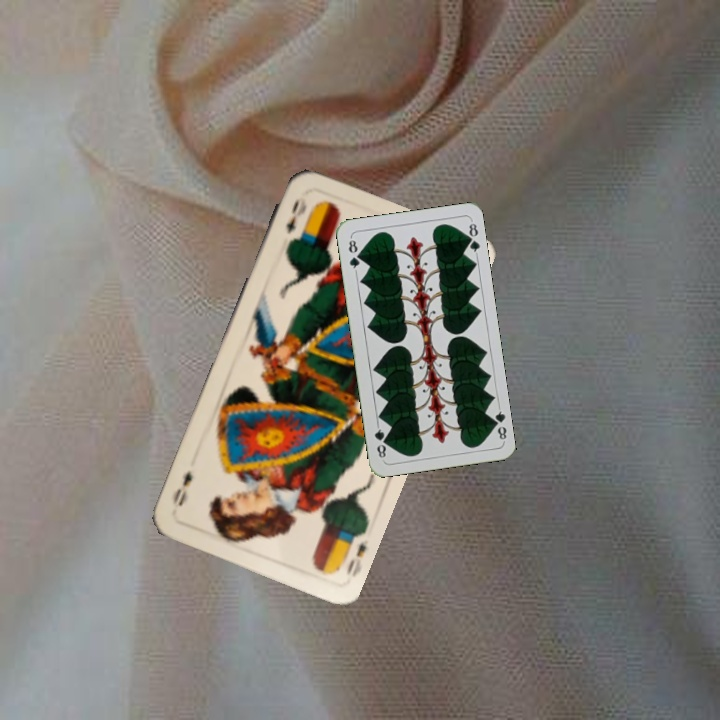EO: (342, 535, 371, 579), (282, 193, 310, 236)
G8: (487, 403, 509, 444), (344, 234, 363, 274)
